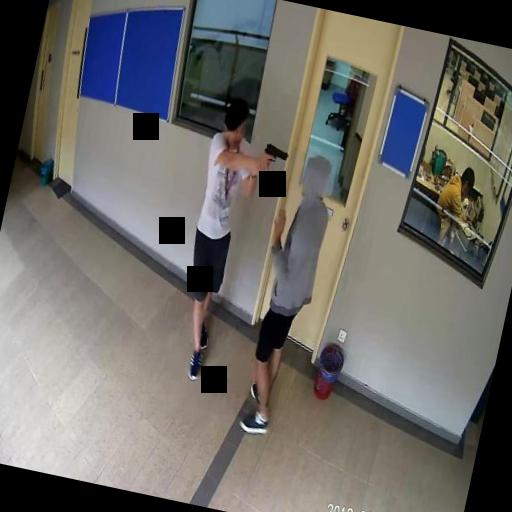Handgun: (260, 140, 288, 176)
